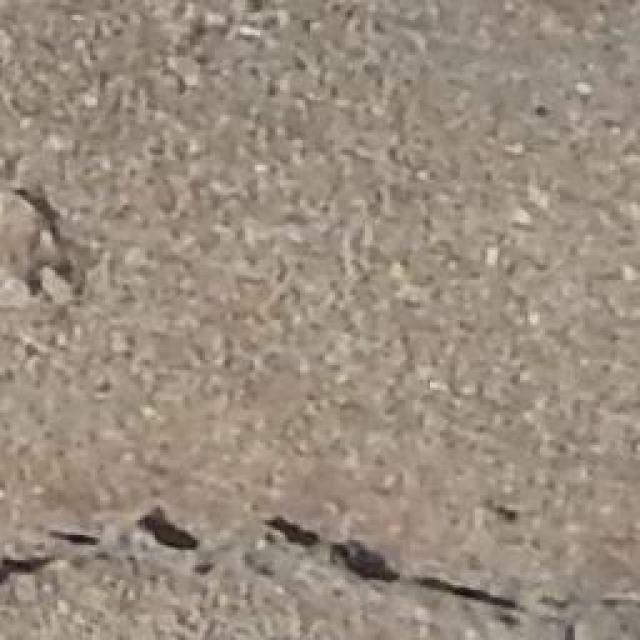concrete-crack: (415, 580, 520, 610), (330, 540, 402, 580), (138, 510, 200, 550), (0, 558, 58, 585), (268, 518, 322, 542), (50, 532, 100, 545)
